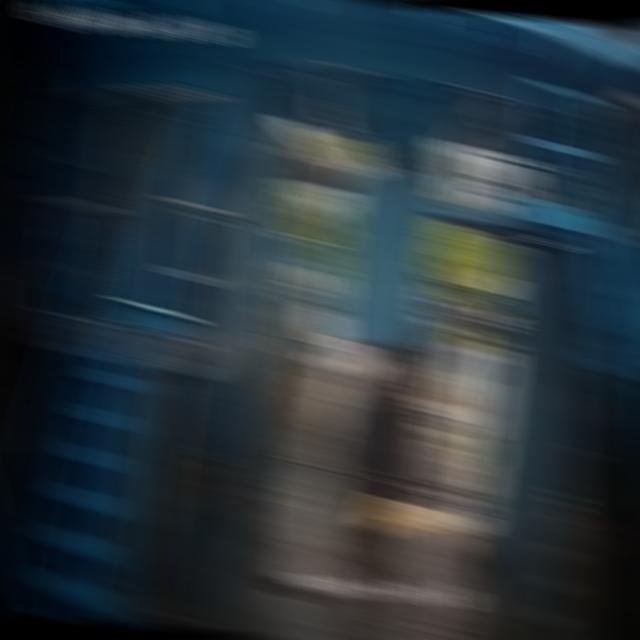cement_mixer_truck: (326, 276, 451, 482)
